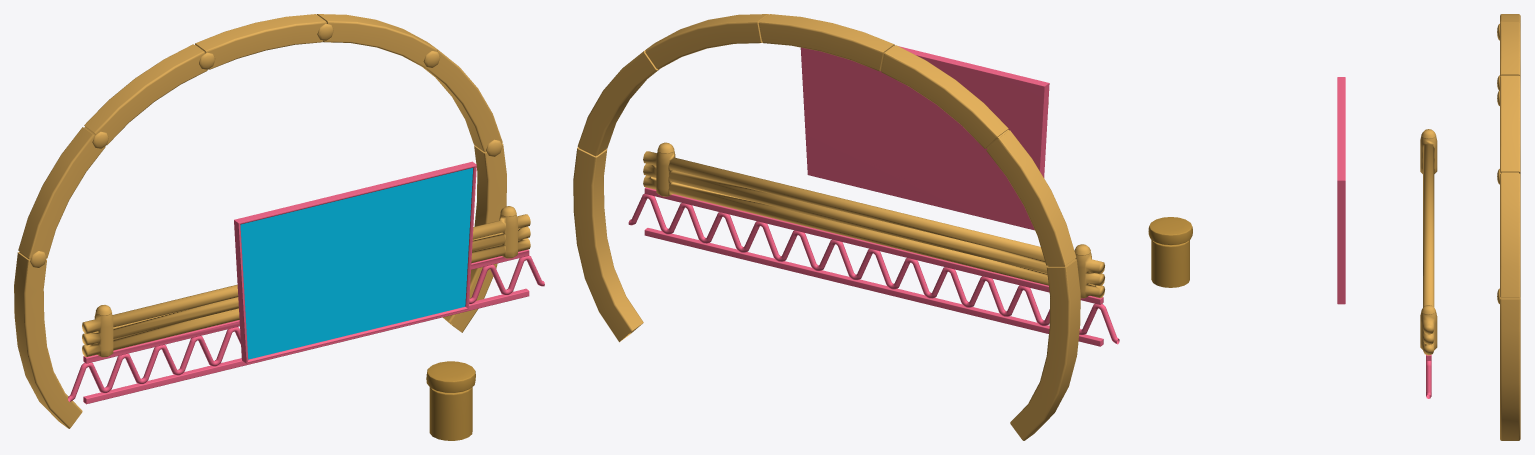
The model's file is GB_itikakuninn.fbx.
3 renders of one model, left to right at view 1: azimuth 30°, elevation 25°; view 2: azimuth 150°, elevation 25°; view 3: azimuth 270°, elevation 25°, orthographic. The views are drawn at different scales.
Parts seen in each view (by area): view 1: winner_BG_model_v07:monitor, winner_BG_model_v07:arch, winner_BG_model_v07:fence, winner_BG_model_v07:pedestal; view 2: winner_BG_model_v07:arch, winner_BG_model_v07:fence, winner_BG_model_v07:monitor; view 3: winner_BG_model_v07:arch, winner_BG_model_v07:fence, winner_BG_model_v07:pedestal, winner_BG_model_v07:monitor.
Part boxes in pixels (<box>): winner_BG_model_v07:monitor: <box>234,161,476,363</box>; winner_BG_model_v07:arch: <box>14,14,506,428</box>; winner_BG_model_v07:fence: <box>67,206,544,404</box>; winner_BG_model_v07:pedestal: <box>426,361,475,440</box>; winner_BG_model_v07:arch: <box>573,14,1080,440</box>; winner_BG_model_v07:fence: <box>628,142,1119,346</box>; winner_BG_model_v07:monitor: <box>800,46,1049,230</box>; winner_BG_model_v07:arch: <box>1497,14,1520,440</box>; winner_BG_model_v07:fence: <box>1420,129,1437,398</box>; winner_BG_model_v07:pedestal: <box>1148,217,1192,287</box>; winner_BG_model_v07:monitor: <box>1337,77,1345,304</box>.
Size of the model in its own units: 874 by 606 by 654.
